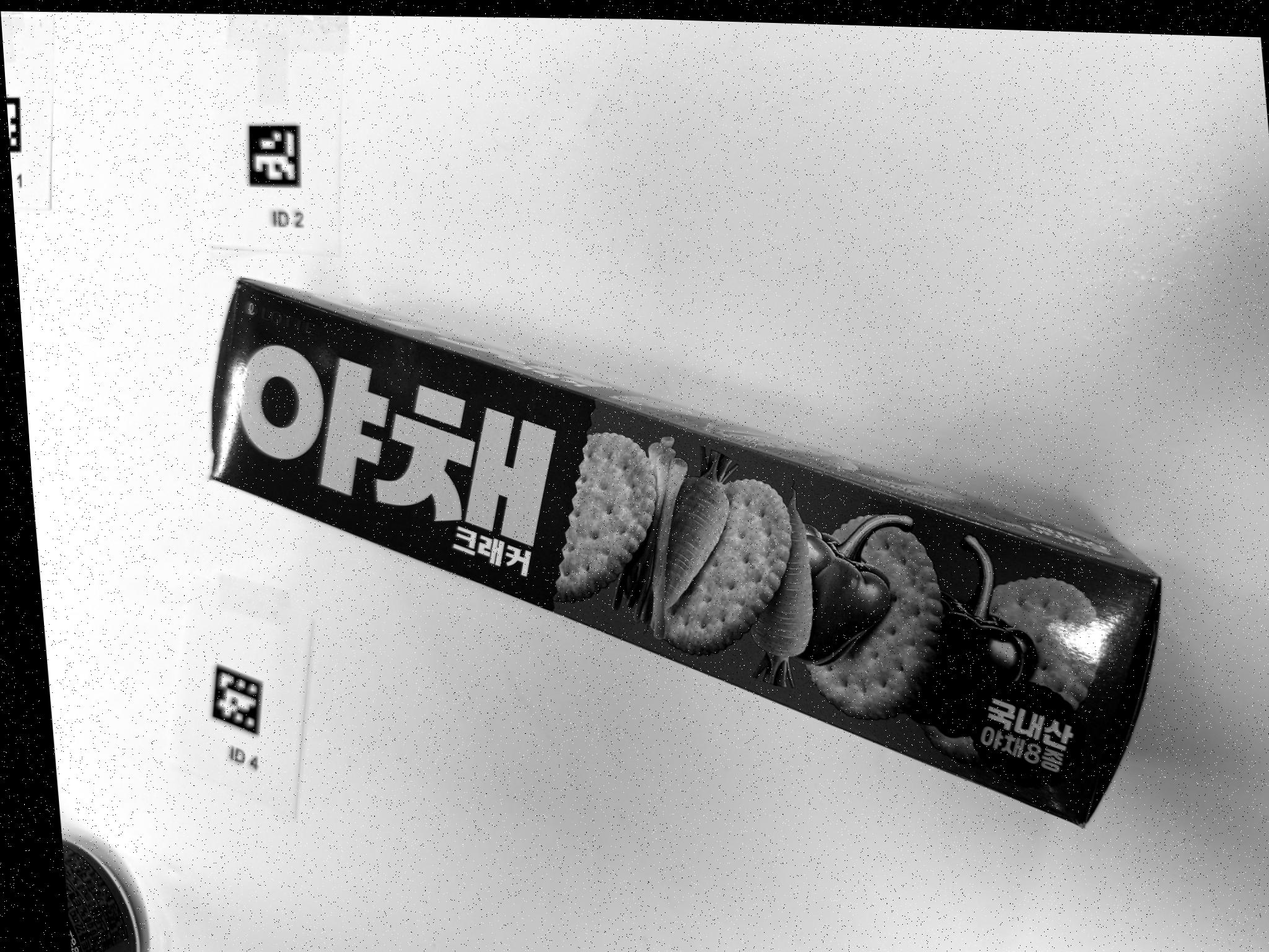cracker_vege: (212, 280, 1161, 825)
